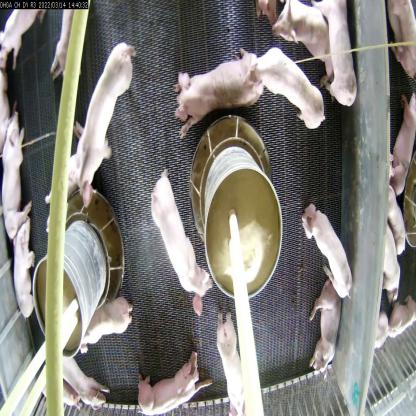Pig: (75, 38, 140, 209), (147, 170, 215, 310), (256, 37, 326, 129), (172, 56, 262, 124), (306, 183, 355, 301), (272, 0, 332, 75), (317, 0, 358, 105), (0, 110, 31, 237), (304, 272, 342, 374), (135, 365, 205, 415), (82, 296, 138, 356), (214, 310, 246, 415), (11, 203, 39, 322), (60, 352, 110, 413)
